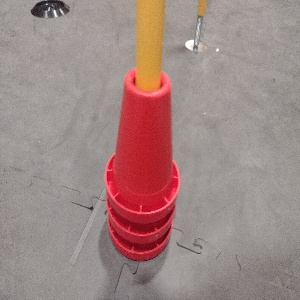Red_3: (103, 64, 180, 262)
